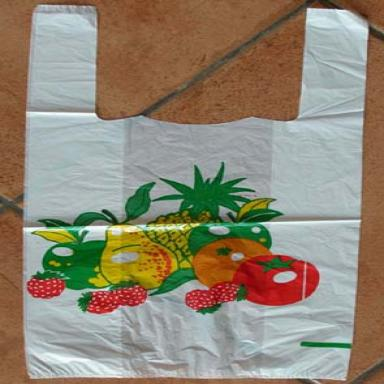plasticbag: (21, 3, 360, 377)
